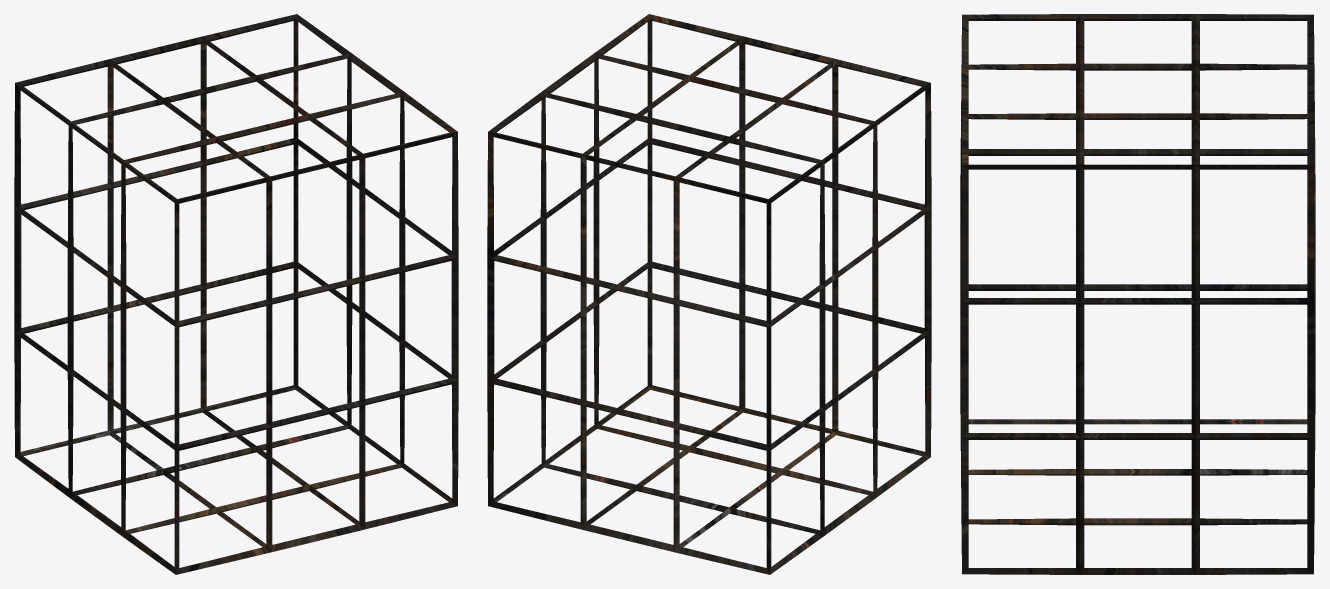
The model's file is jaula.fbx.
The picture shows the model from 3 angles, left to right: view 1: azimuth 30°, elevation 25°; view 2: azimuth 150°, elevation 25°; view 3: azimuth 270°, elevation 25°; orthographic projection. The views are drawn at different scales.
Visible parts, largest first — view 1: JaulaDelpolloRay; view 2: JaulaDelpolloRay; view 3: JaulaDelpolloRay.
Part boxes in pixels (bbox=[...]): JaulaDelpolloRay: bbox=[14, 14, 458, 574]; JaulaDelpolloRay: bbox=[487, 14, 931, 574]; JaulaDelpolloRay: bbox=[960, 14, 1315, 574].
Size of the model in its own units: 949 by 1202 by 939.
